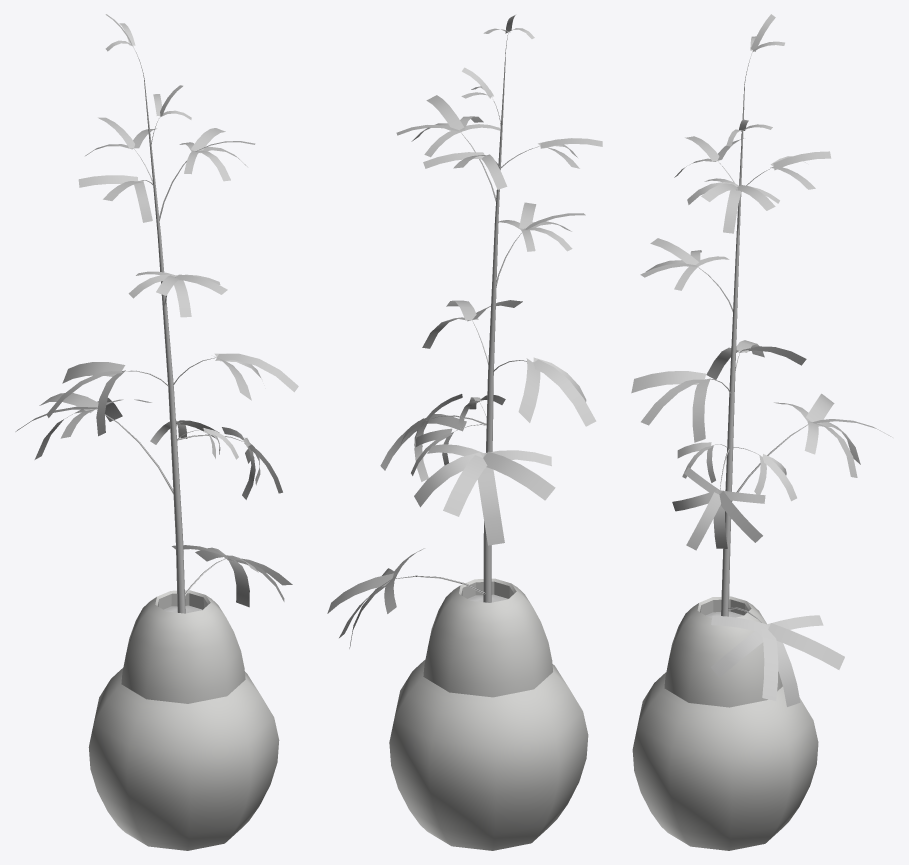
File: SmallWhitePots002.FBX
The picture shows the model from 3 angles, left to right: view 1: azimuth 30°, elevation 25°; view 2: azimuth 150°, elevation 25°; view 3: azimuth 270°, elevation 25°; orthographic projection. The views are drawn at different scales.
Parts seen in each view (by area): view 1: SmallWhitePots002; view 2: SmallWhitePots002; view 3: SmallWhitePots002.
Boxes of the visible parts, x1=… form: SmallWhitePots002: x1=15, y1=14, x2=298, y2=850; SmallWhitePots002: x1=327, y1=15, x2=602, y2=850; SmallWhitePots002: x1=631, y1=14, x2=892, y2=850.
Bounding box in the file's own units: 0.561 × 1.74 × 0.5263.
